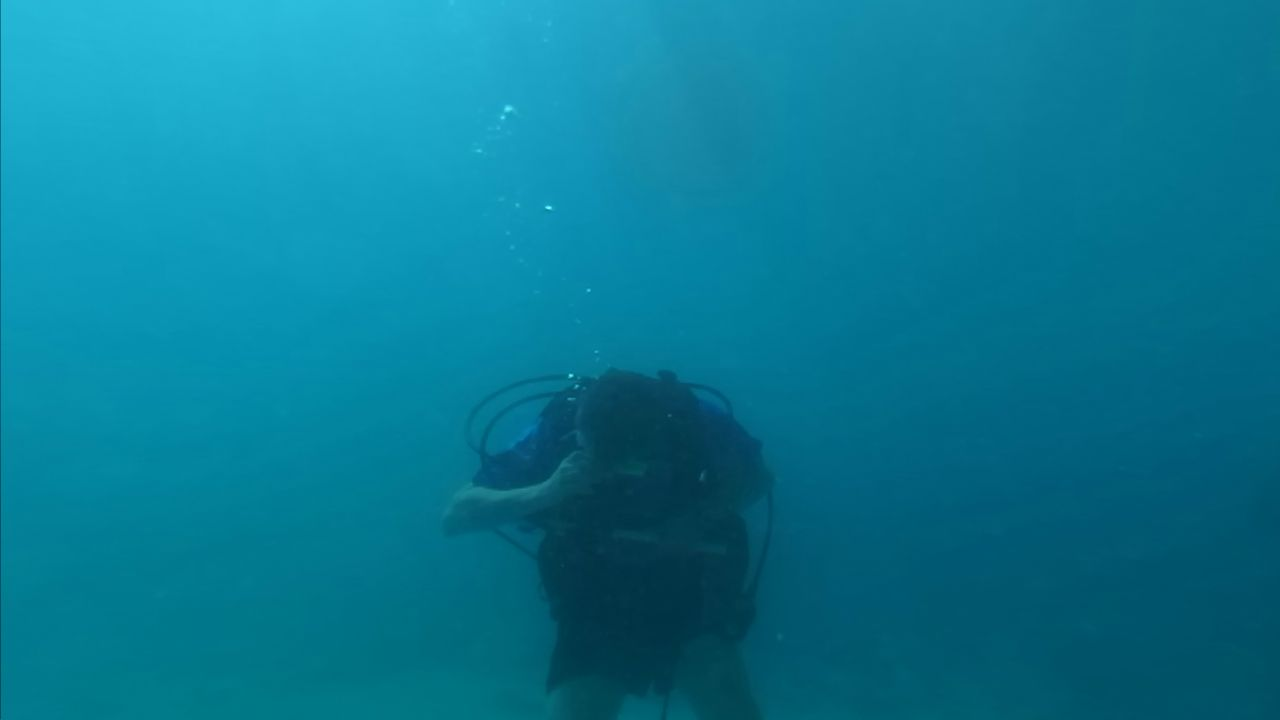Diver: (432, 358, 806, 718)
Hand: (530, 442, 620, 506)
